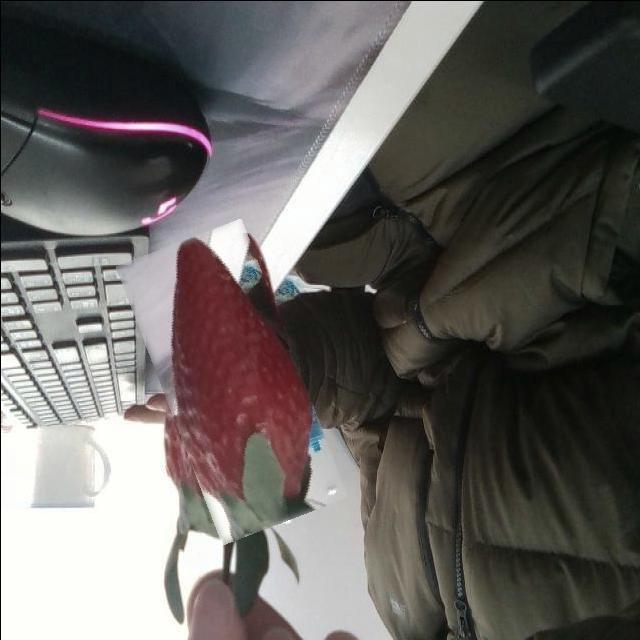strawberry: (140, 225, 323, 538)
